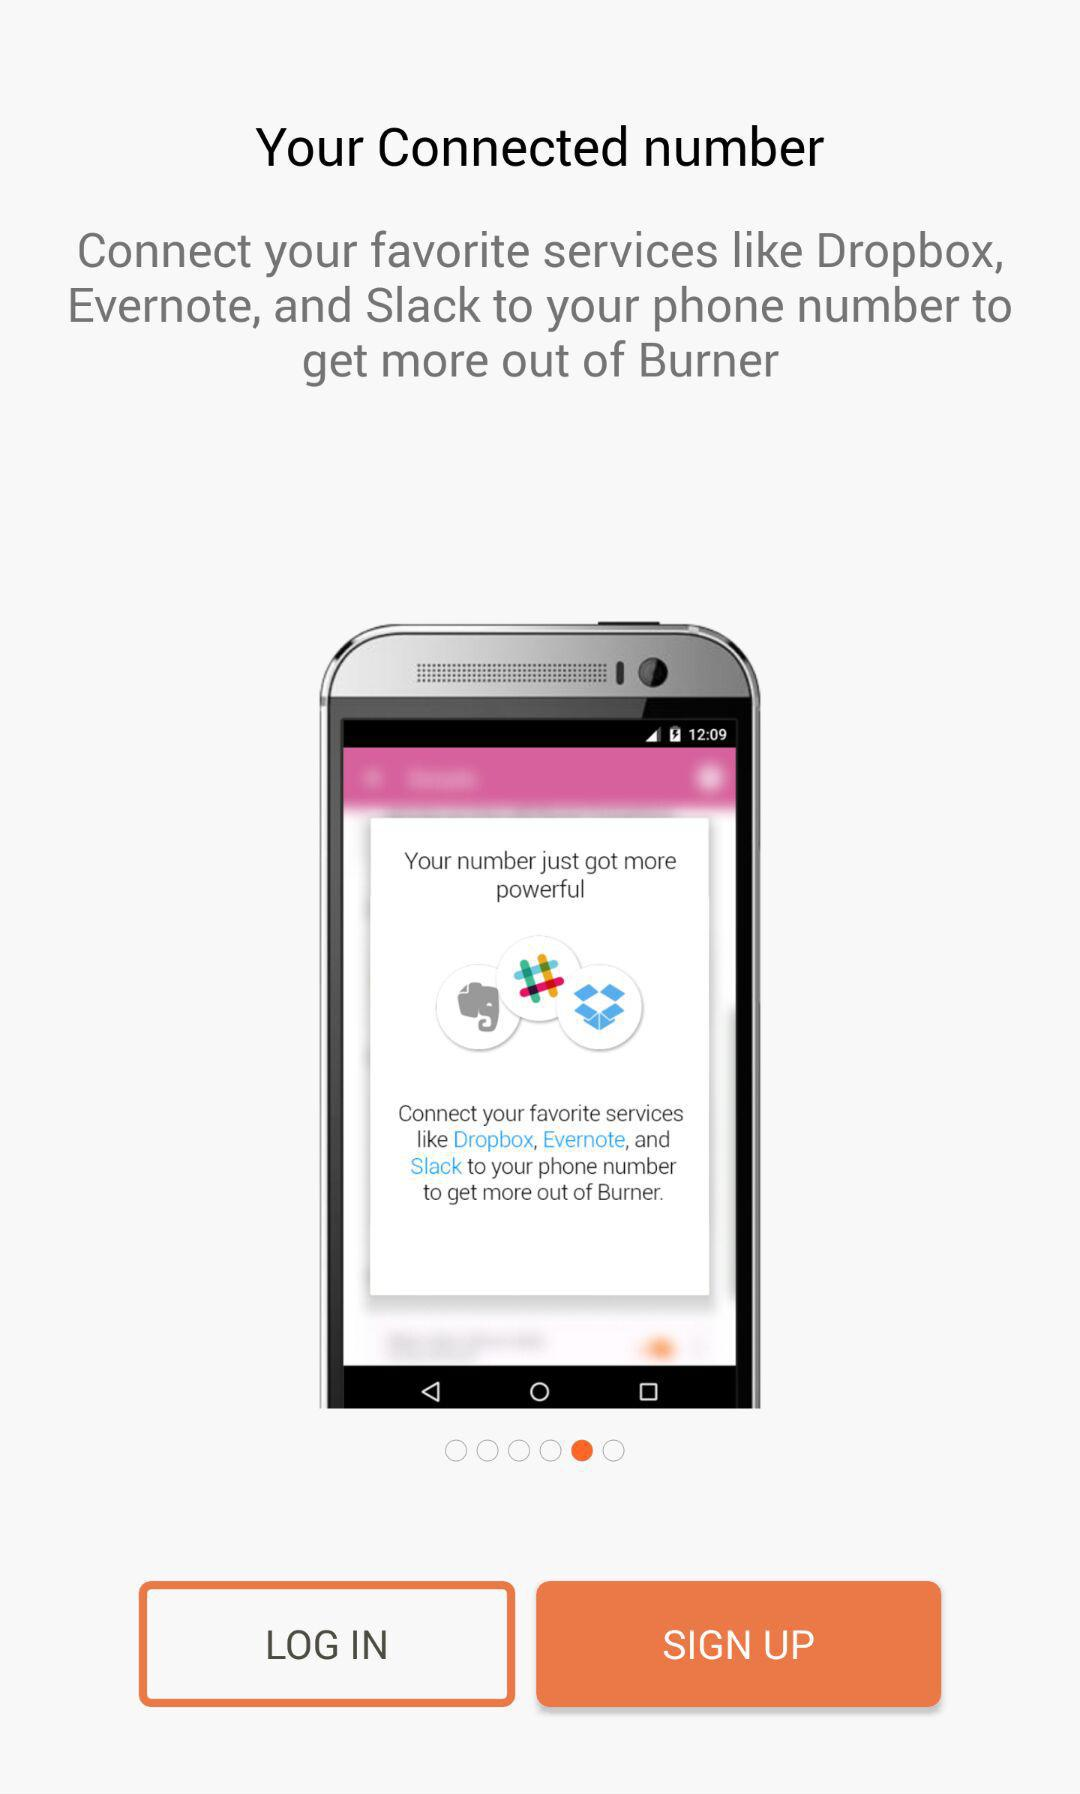Image: (319, 621, 762, 1410)
PageIndicator: (445, 1438, 626, 1463)
Text: (70, 229, 1012, 388), (256, 126, 825, 169)
TextButton: (536, 1580, 942, 1708), (138, 1580, 518, 1708)
